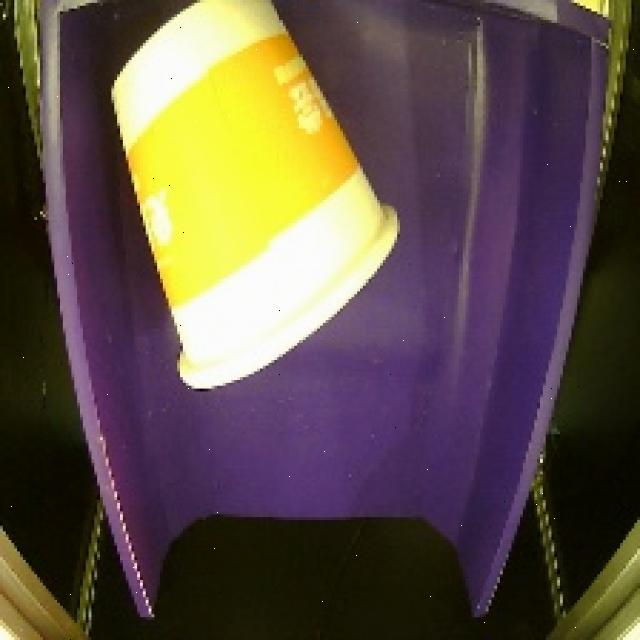cups: (97, 0, 409, 403)
